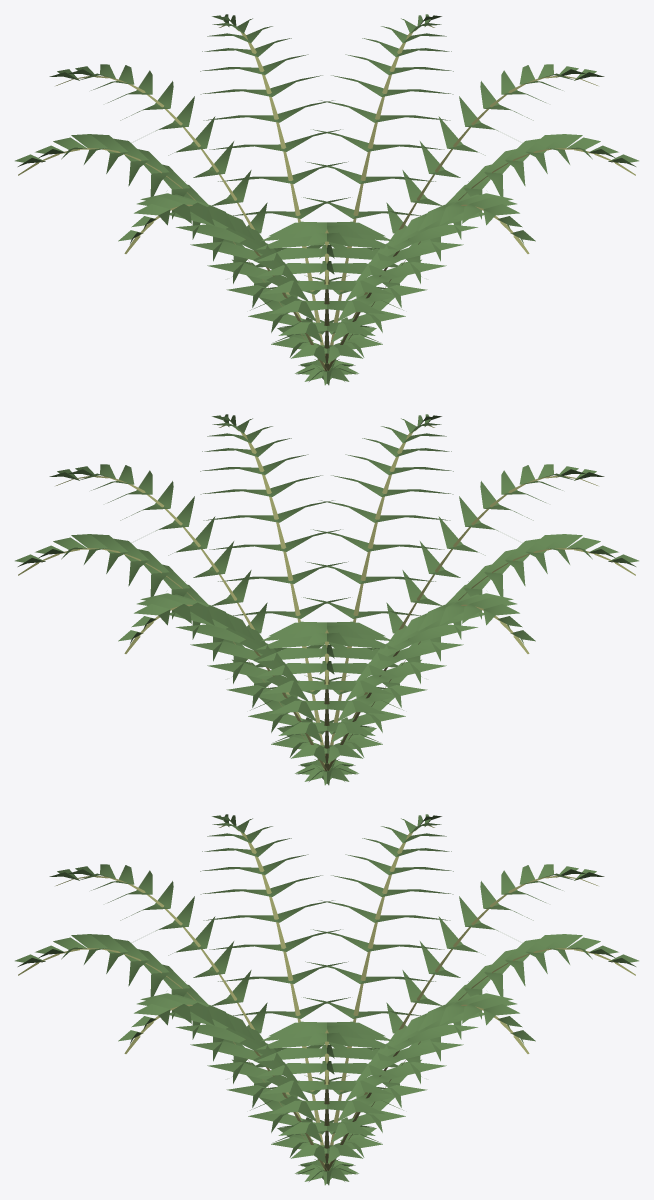
The model's file is pacific-fern.glb.
The picture shows the model from 3 angles, top to bottom: view 1: azimuth 30°, elevation 25°; view 2: azimuth 150°, elevation 25°; view 3: azimuth 270°, elevation 25°; orthographic projection.
Parts seen in each view (by area): view 1: LifeRoot_Fern deep green leaflets, LifeRoot_Fern pale stems; view 2: LifeRoot_Fern deep green leaflets, LifeRoot_Fern pale stems; view 3: LifeRoot_Fern deep green leaflets, LifeRoot_Fern pale stems.
Part boxes in pixels (x1,y1,x2,y2): LifeRoot_Fern deep green leaflets: (15,14,638,385); LifeRoot_Fern pale stems: (18,25,635,370); LifeRoot_Fern deep green leaflets: (15,414,638,785); LifeRoot_Fern pale stems: (18,425,635,770); LifeRoot_Fern deep green leaflets: (15,814,638,1185); LifeRoot_Fern pale stems: (18,825,635,1170).
Size of the model in its own units: 1.43 by 0.6377 by 1.46.
